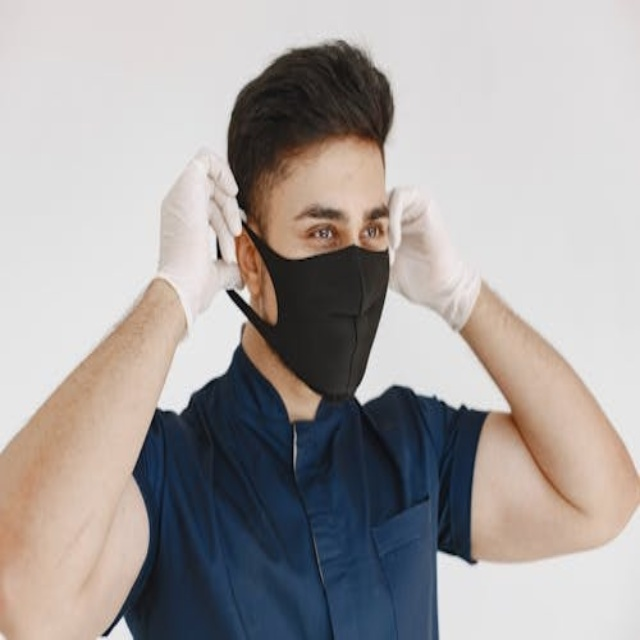Guantes: (149, 146, 249, 335), (384, 183, 483, 334)
Mascara: (230, 223, 389, 400)
Sin_gafas: (283, 192, 387, 254)
